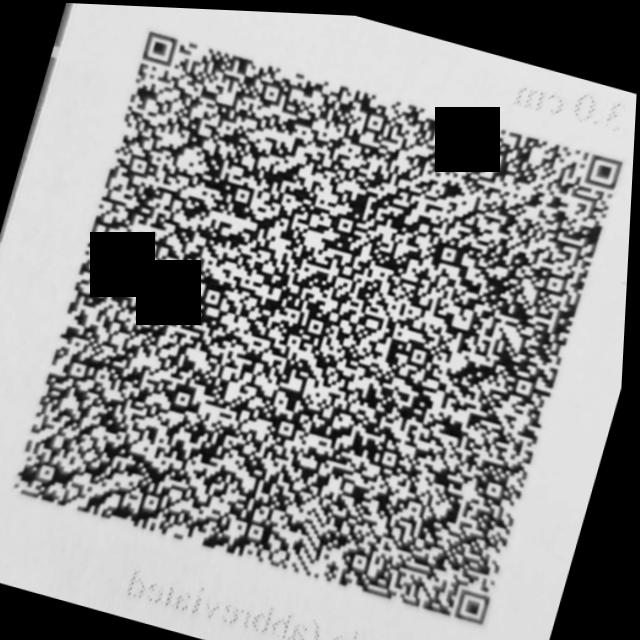QR_CODE: (0, 0, 640, 640)
